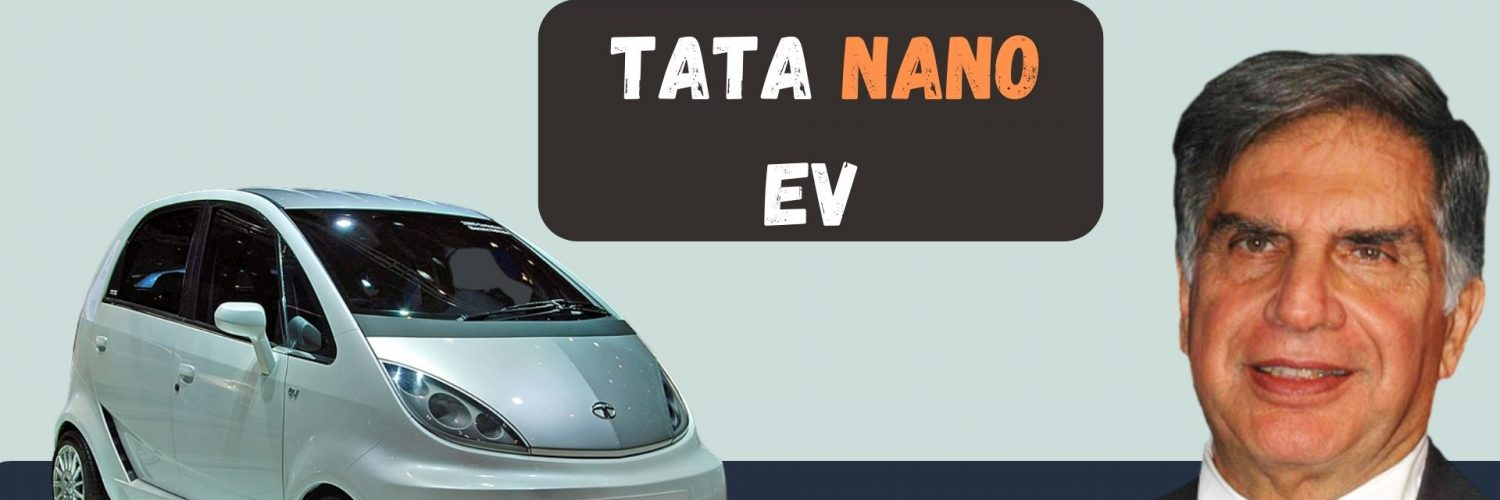Nano: (47, 182, 734, 500)
